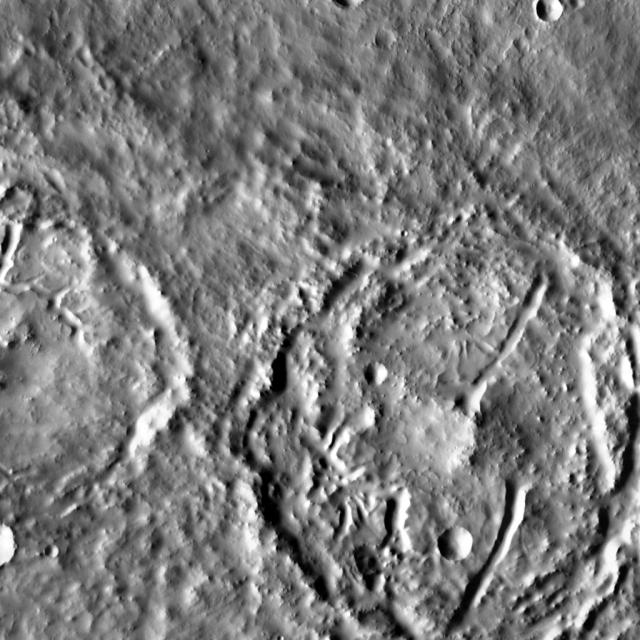crater: (252, 237, 640, 640), (0, 202, 189, 522), (444, 526, 481, 562), (6, 188, 39, 220), (542, 0, 570, 22), (372, 363, 394, 385), (382, 28, 402, 48), (51, 544, 66, 558), (389, 138, 400, 148), (580, 0, 592, 9), (61, 112, 71, 121), (317, 8, 325, 16)
